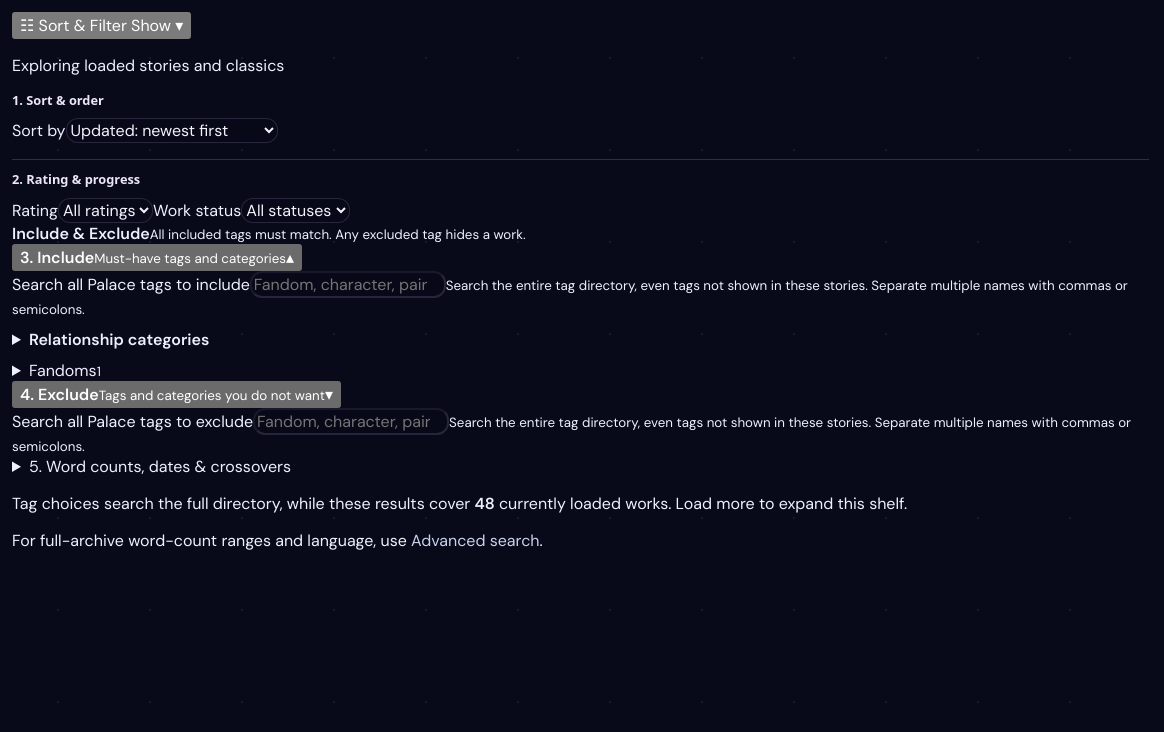
Test: has one mobile header and an accessible results action above the dock
The image size is (1164, 732).
Click the button with aria-label "Open Sort & Filter": (102, 26) top-left (12, 12), bottom-right (191, 39)
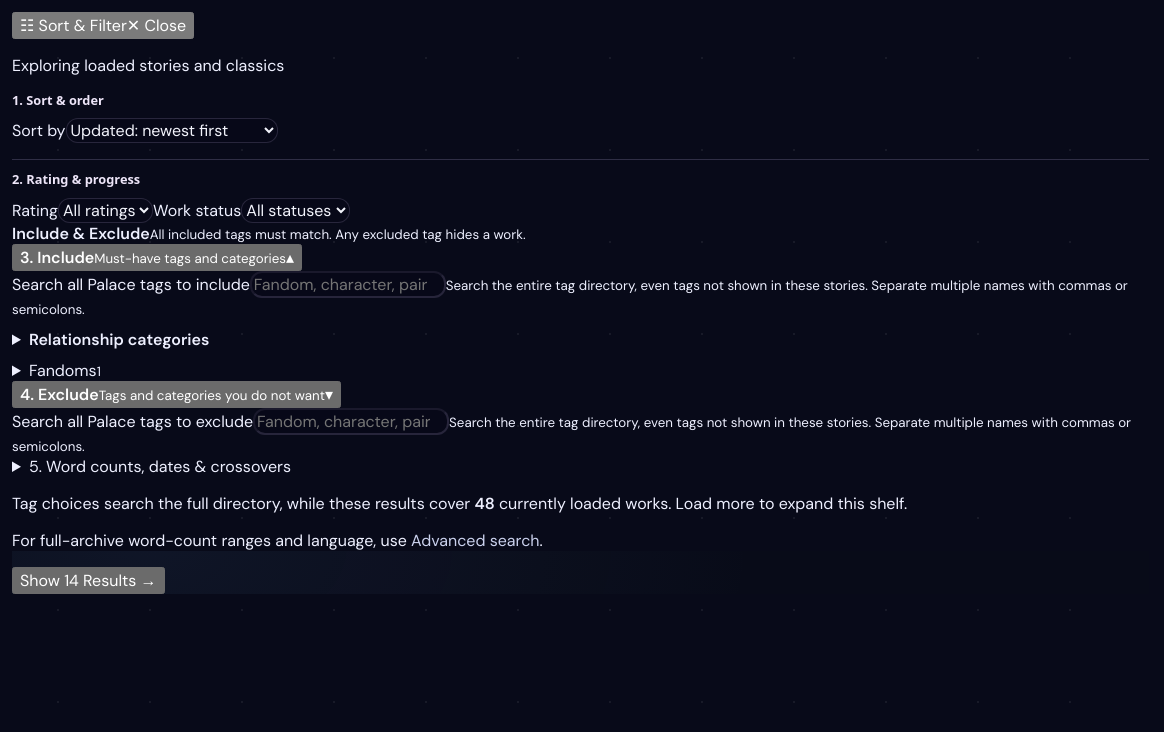
Expected: the button with aria-label "Close Sort & Filter" is shown, top-left (12, 12), bottom-right (194, 39)
Click the button "Show 14 Results →": (88, 581) top-left (12, 567), bottom-right (164, 594)
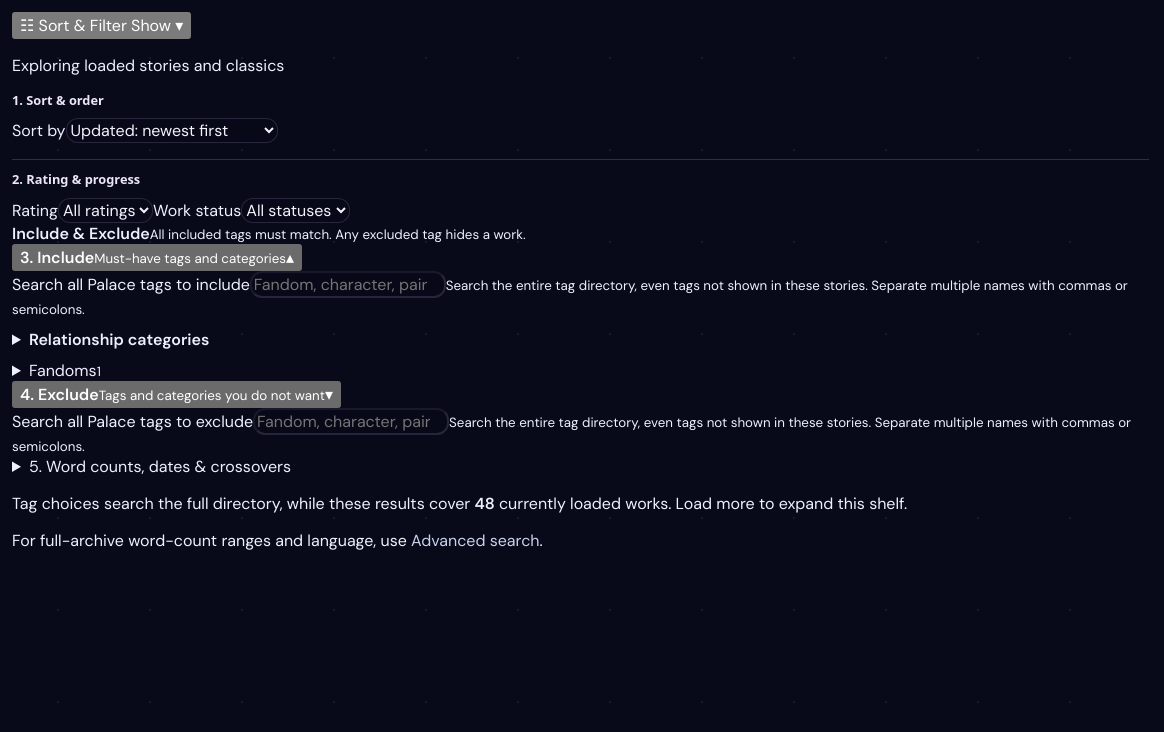
Expected: the button with aria-label "Open Sort & Filter" is collapsed, top-left (12, 12), bottom-right (191, 39)
